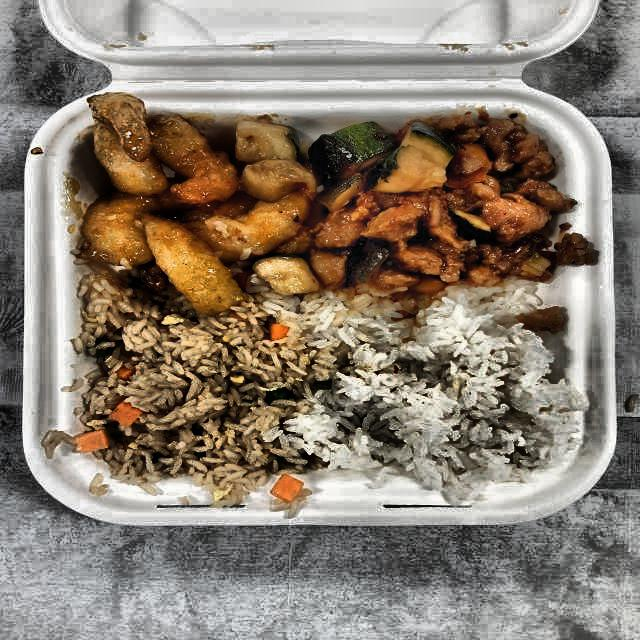Food: (59, 88, 334, 315), (64, 299, 339, 502), (303, 109, 585, 306), (322, 303, 574, 491)
